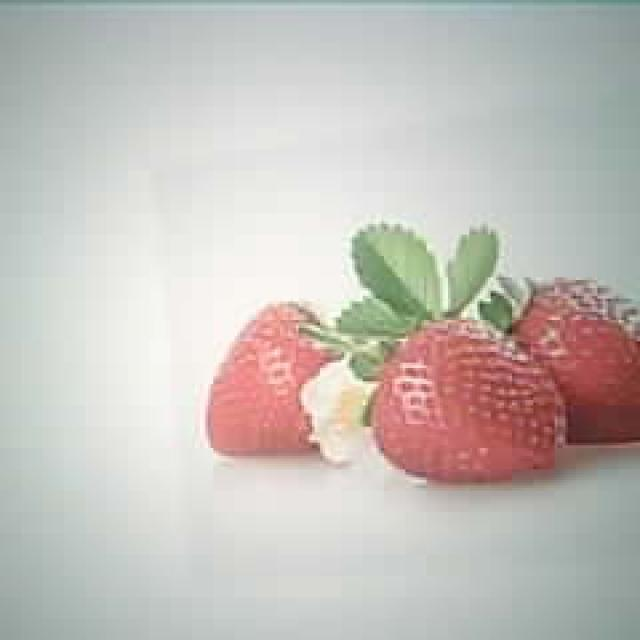Healthy Fruit: (369, 317, 566, 483), (205, 299, 341, 457), (510, 278, 639, 443)
